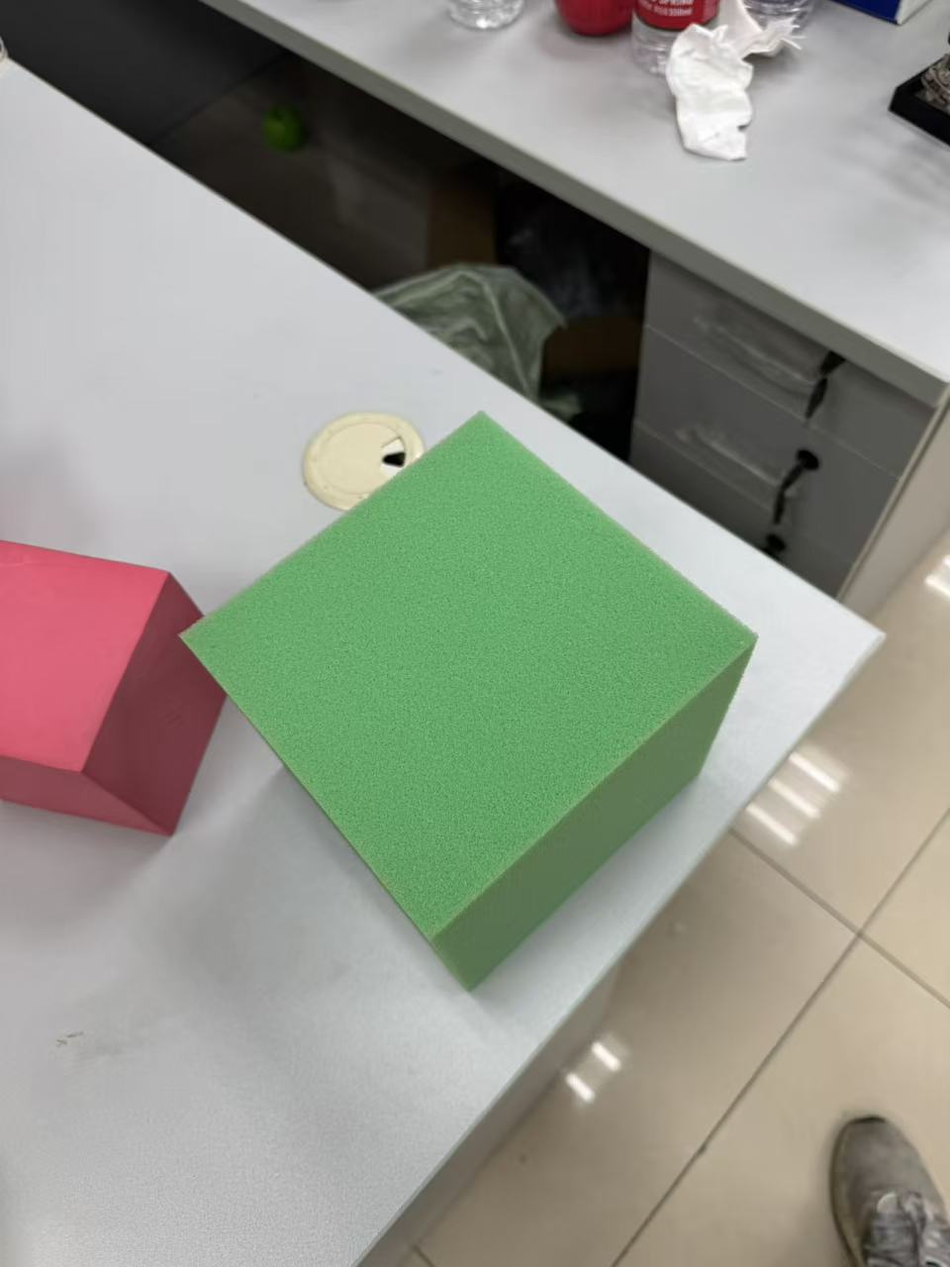green_large: (182, 407, 760, 996)
red_small: (0, 539, 230, 840)
